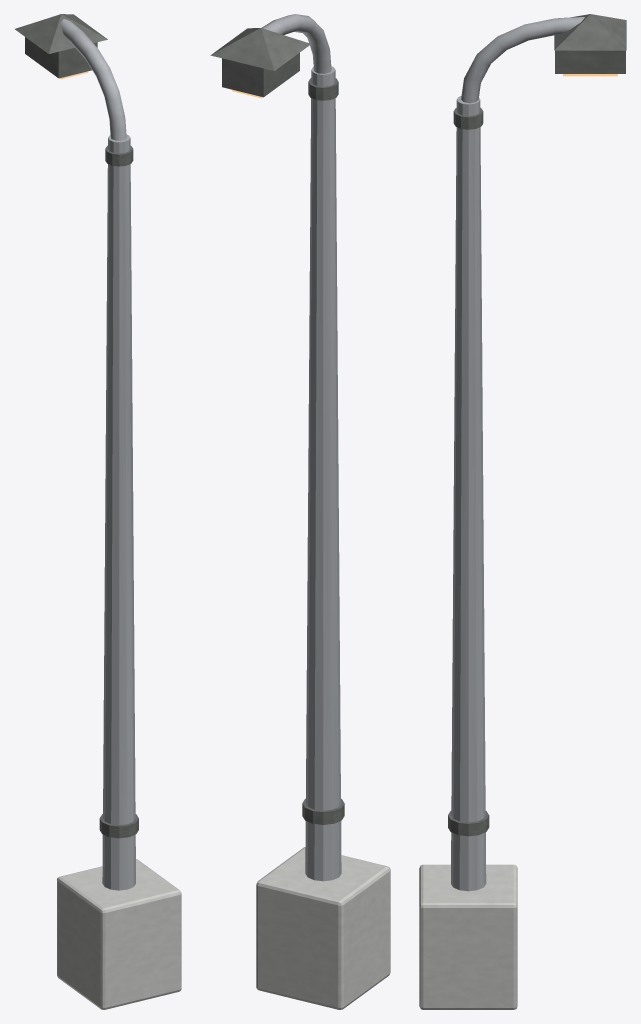
The model's file is lamp.glb.
The picture shows the model from 3 angles, left to right: view 1: azimuth 30°, elevation 25°; view 2: azimuth 150°, elevation 25°; view 3: azimuth 270°, elevation 25°; orthographic projection. The views are drawn at different scales.
Visible parts, largest first — view 1: Cone, Cube, Arm, Cone.001, Cube.001, Cylinder, Cylinder.001; view 2: Cone, Cube, Cone.001, Cube.001, Arm, Cylinder, Cylinder.001; view 3: Cone, Cube, Arm, Cone.001, Cube.001, Cylinder.
Part boxes in pixels (x1=…): Cone: x1=102, y1=134, x2=135, y2=890; Cube: x1=57, y1=859, x2=181, y2=1009; Arm: x1=60, y1=19, x2=126, y2=140; Cone.001: x1=15, y1=14, x2=107, y2=53; Cube.001: x1=25, y1=37, x2=97, y2=78; Cylinder: x1=99, y1=814, x2=138, y2=838; Cylinder.001: x1=105, y1=145, x2=133, y2=166; Cone: x1=305, y1=66, x2=341, y2=881; Cube: x1=256, y1=847, x2=390, y2=1009; Cone.001: x1=210, y1=28, x2=310, y2=70; Cube.001: x1=222, y1=53, x2=299, y2=97; Arm: x1=261, y1=14, x2=331, y2=73; Cylinder: x1=302, y1=798, x2=344, y2=824; Cylinder.001: x1=308, y1=78, x2=338, y2=100; Cone: x1=451, y1=96, x2=486, y2=891; Cube: x1=419, y1=864, x2=517, y2=1009; Arm: x1=461, y1=17, x2=584, y2=103; Cone.001: x1=554, y1=14, x2=626, y2=50; Cube.001: x1=555, y1=50, x2=625, y2=73; Cylinder: x1=448, y1=811, x2=489, y2=836.
Size of the model in its own units: 0.5 by 5.48 by 1.05.
4 materials, 3 textured.
